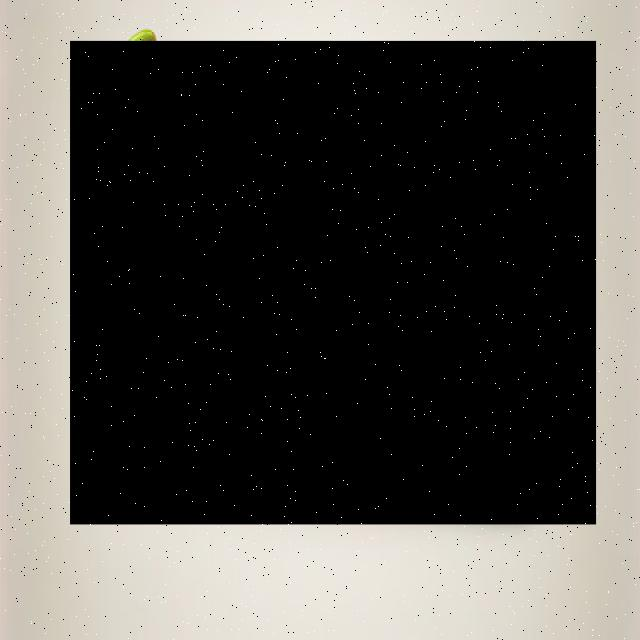Chili_Pepper: (70, 42, 596, 526)
